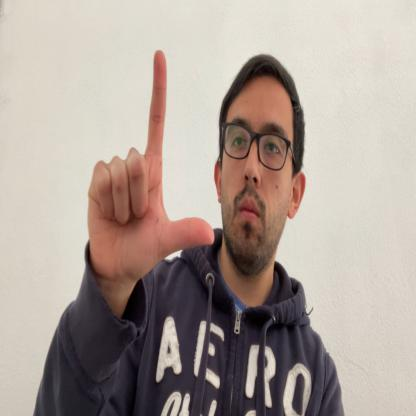L: (86, 49, 214, 272)
